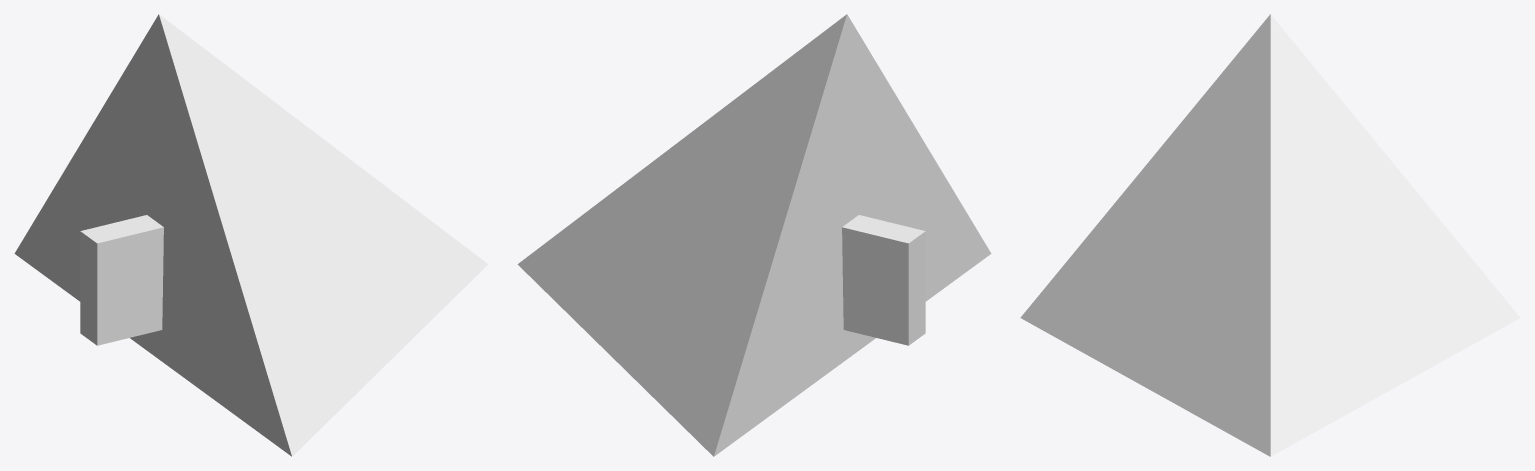
3 renders of one model, left to right at view 1: azimuth 30°, elevation 25°; view 2: azimuth 150°, elevation 25°; view 3: azimuth 270°, elevation 25°, orthographic. The views are drawn at different scales.
Visible parts, largest first — view 1: Cone; view 2: Cone; view 3: Cone.
Part boxes in pixels (<box>): Cone: <box>14,14,488,456</box>; Cone: <box>517,14,991,456</box>; Cone: <box>1020,14,1520,456</box>.
Bounding box in the file's own units: 0.6229 × 0.5063 × 0.7495.
Materials: 2 (2 with a texture image).
